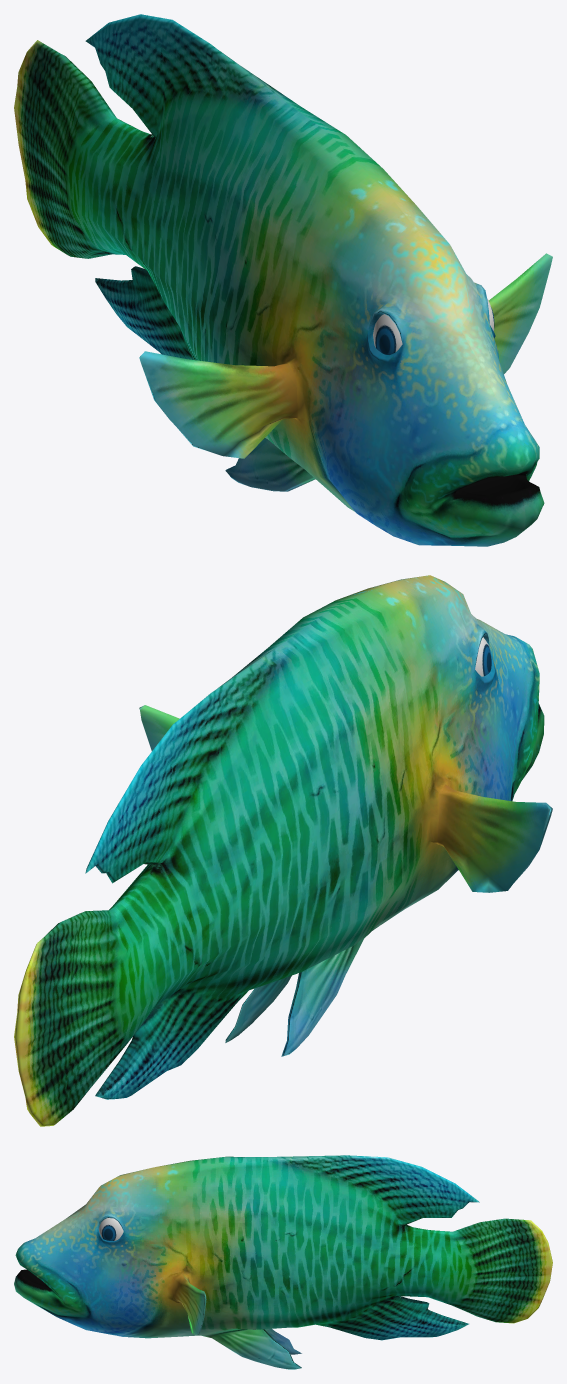
The model's file is fish_3.fbx.
3 views of the same model, one above another, from view 1: azimuth 30°, elevation 25°; view 2: azimuth 150°, elevation 25°; view 3: azimuth 270°, elevation 25° (orthographic). The views are drawn at different scales.
Parts seen in each view (by area): view 1: node_id94, node_id96; view 2: node_id94; view 3: node_id94, node_id98.
Boxes of the visible parts, bbox=[...] form: node_id94: bbox=[14, 14, 552, 546]; node_id96: bbox=[373, 314, 402, 354]; node_id94: bbox=[14, 575, 552, 1126]; node_id94: bbox=[14, 1155, 552, 1369]; node_id98: bbox=[98, 1218, 123, 1240].
Bounding box in the file's own units: 0.2402 × 0.2167 × 0.512.
3 materials, 3 textured.
